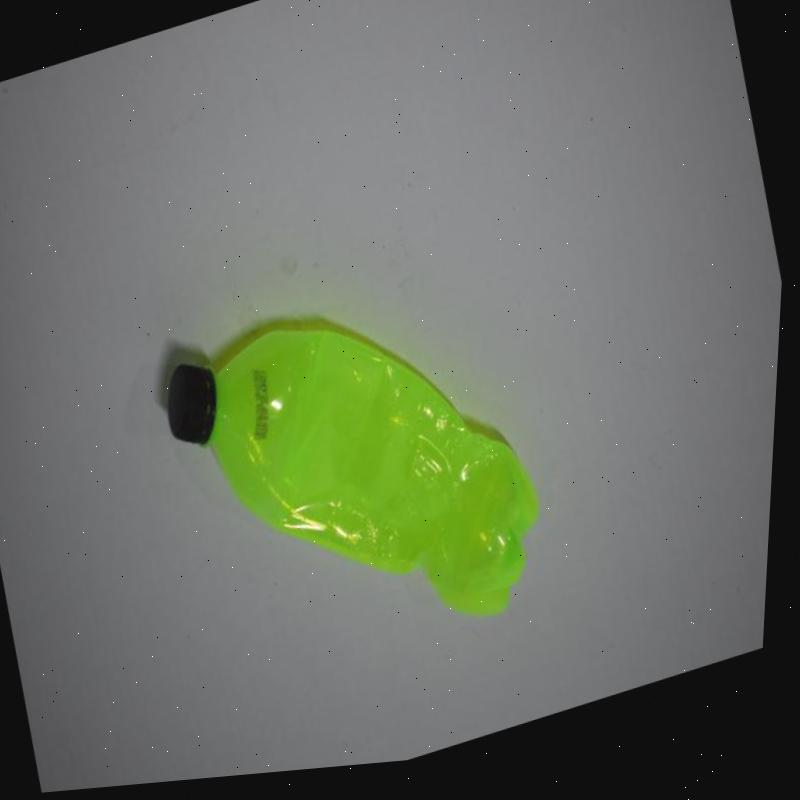botella: (148, 264, 575, 716)
